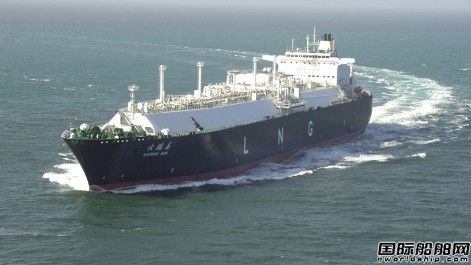Cargoship: (58, 31, 374, 195)
